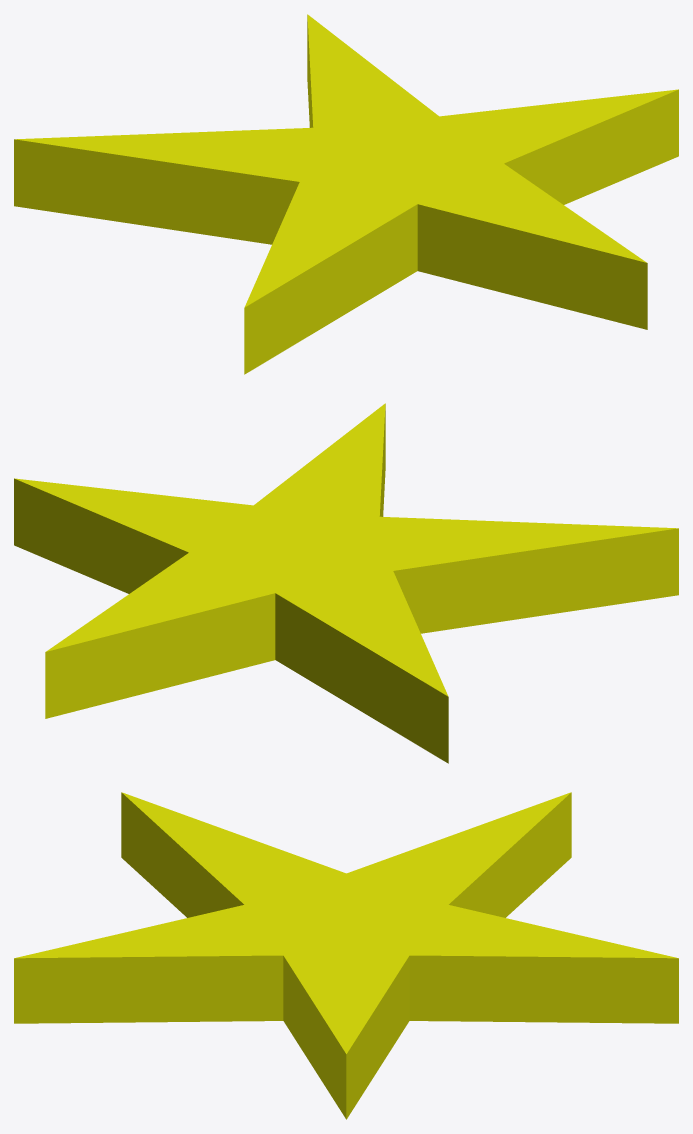
The model's file is RockStar2.fbx.
3 renders of one model, top to bottom at view 1: azimuth 30°, elevation 25°; view 2: azimuth 150°, elevation 25°; view 3: azimuth 270°, elevation 25°, orthographic. The views are drawn at different scales.
Parts seen in each view (by area): view 1: pCylinder1; view 2: pCylinder1; view 3: pCylinder1.
Boxes of the visible parts, x1=… form: pCylinder1: x1=14, y1=14, x2=678, y2=374; pCylinder1: x1=14, y1=403, x2=678, y2=763; pCylinder1: x1=14, y1=792, x2=678, y2=1119.
Size of the model in its own units: 11.57 by 1.35 by 12.4.
